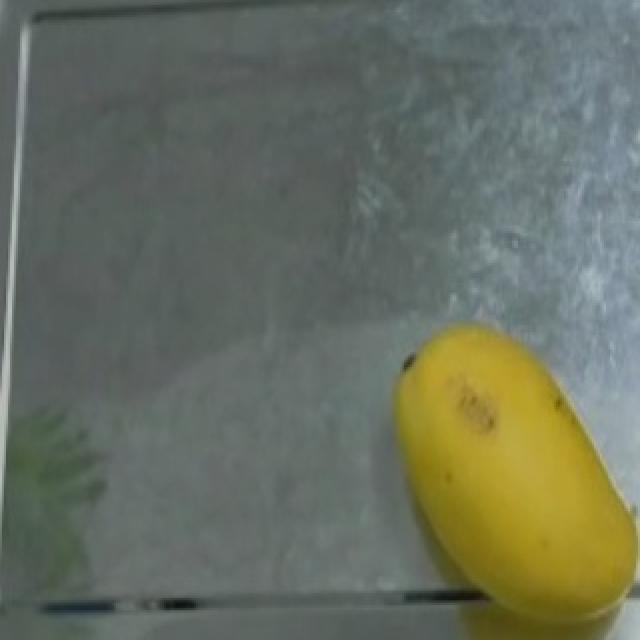fruit: (364, 302, 640, 640)
